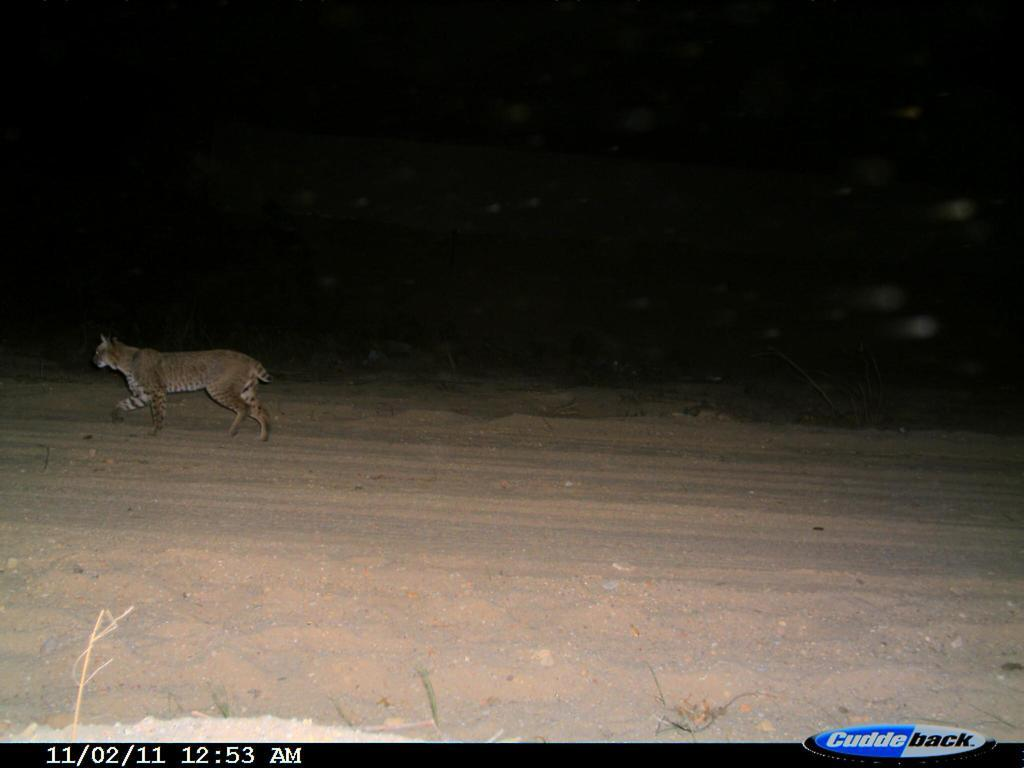bobcat: (85, 324, 289, 451)
